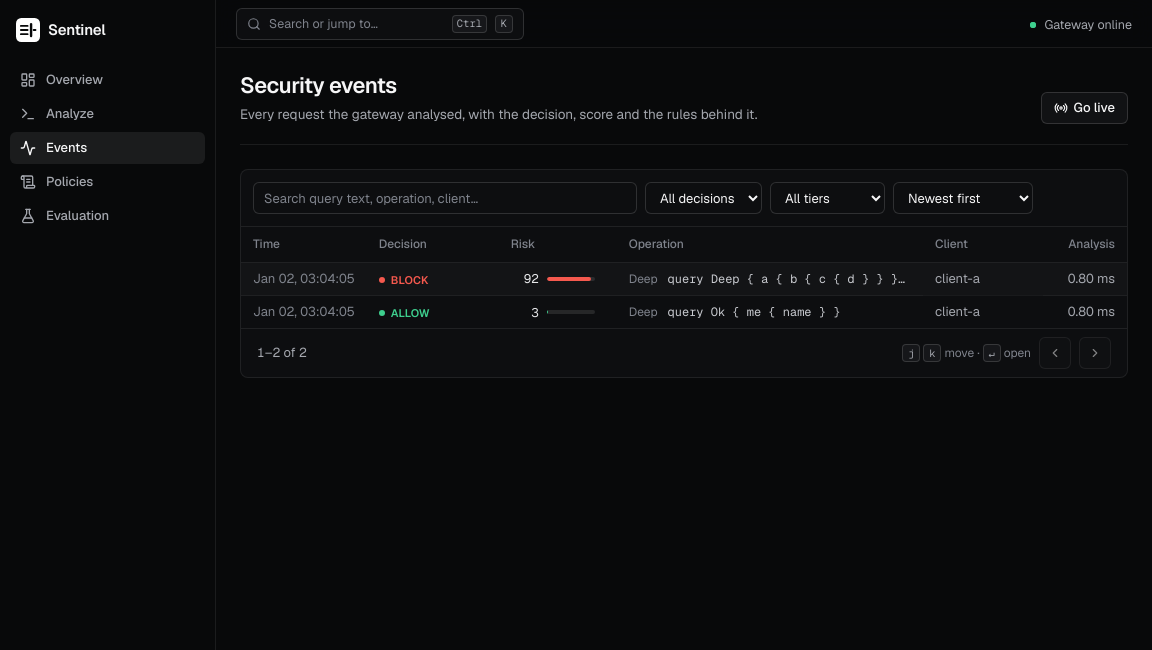
Test: lists events and opens the detail page on click
The width and height of the screenshot is (1152, 650).
Expected: the text "1–2 of 2" is shown, 257,343 -> 307,363
Click the row "BLOCK" at {"x": 684, "y": 279}, box 241,262 -> 1127,296
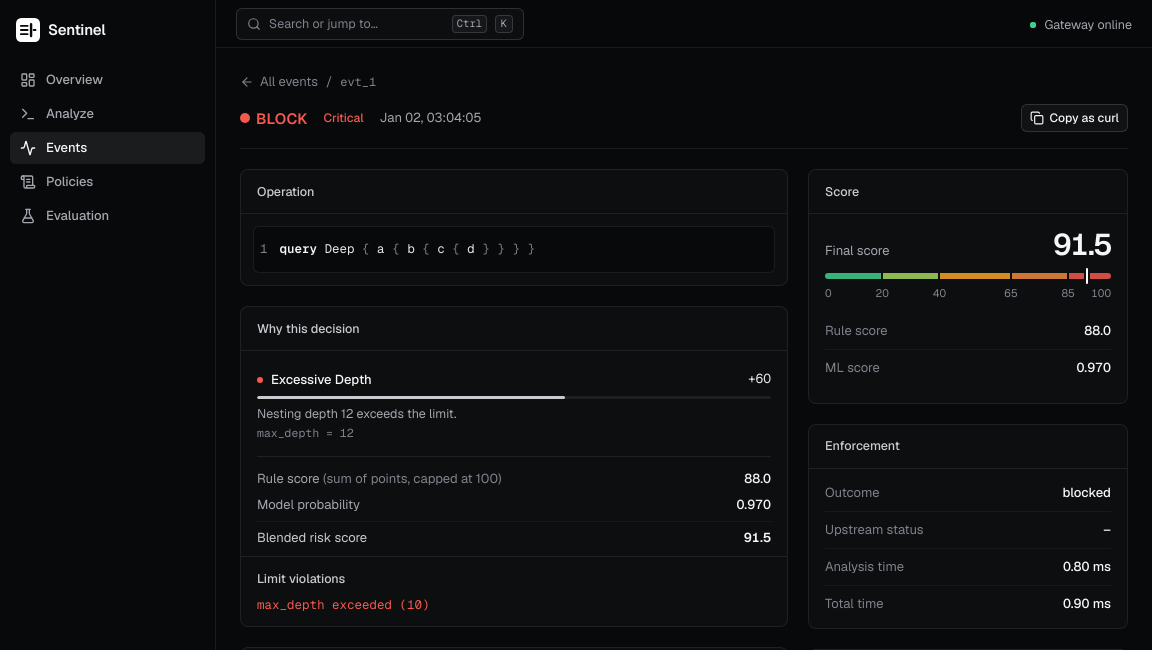
Result: the heading "Why this decision" is shown at 257,319 -> 360,338
Result: the text "Nesting depth 12 exceeds the limit." is shown at 257,405 -> 456,422
Result: the list item "max_depth exceeded (10)" is shown at 257,596 -> 430,613
